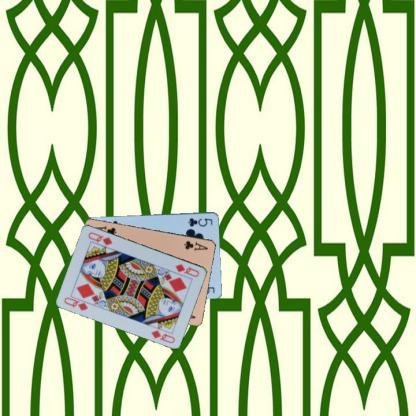5c: (186, 216, 213, 228)
Ac: (182, 238, 209, 252)
Qd: (62, 293, 93, 312), (173, 261, 200, 278)
